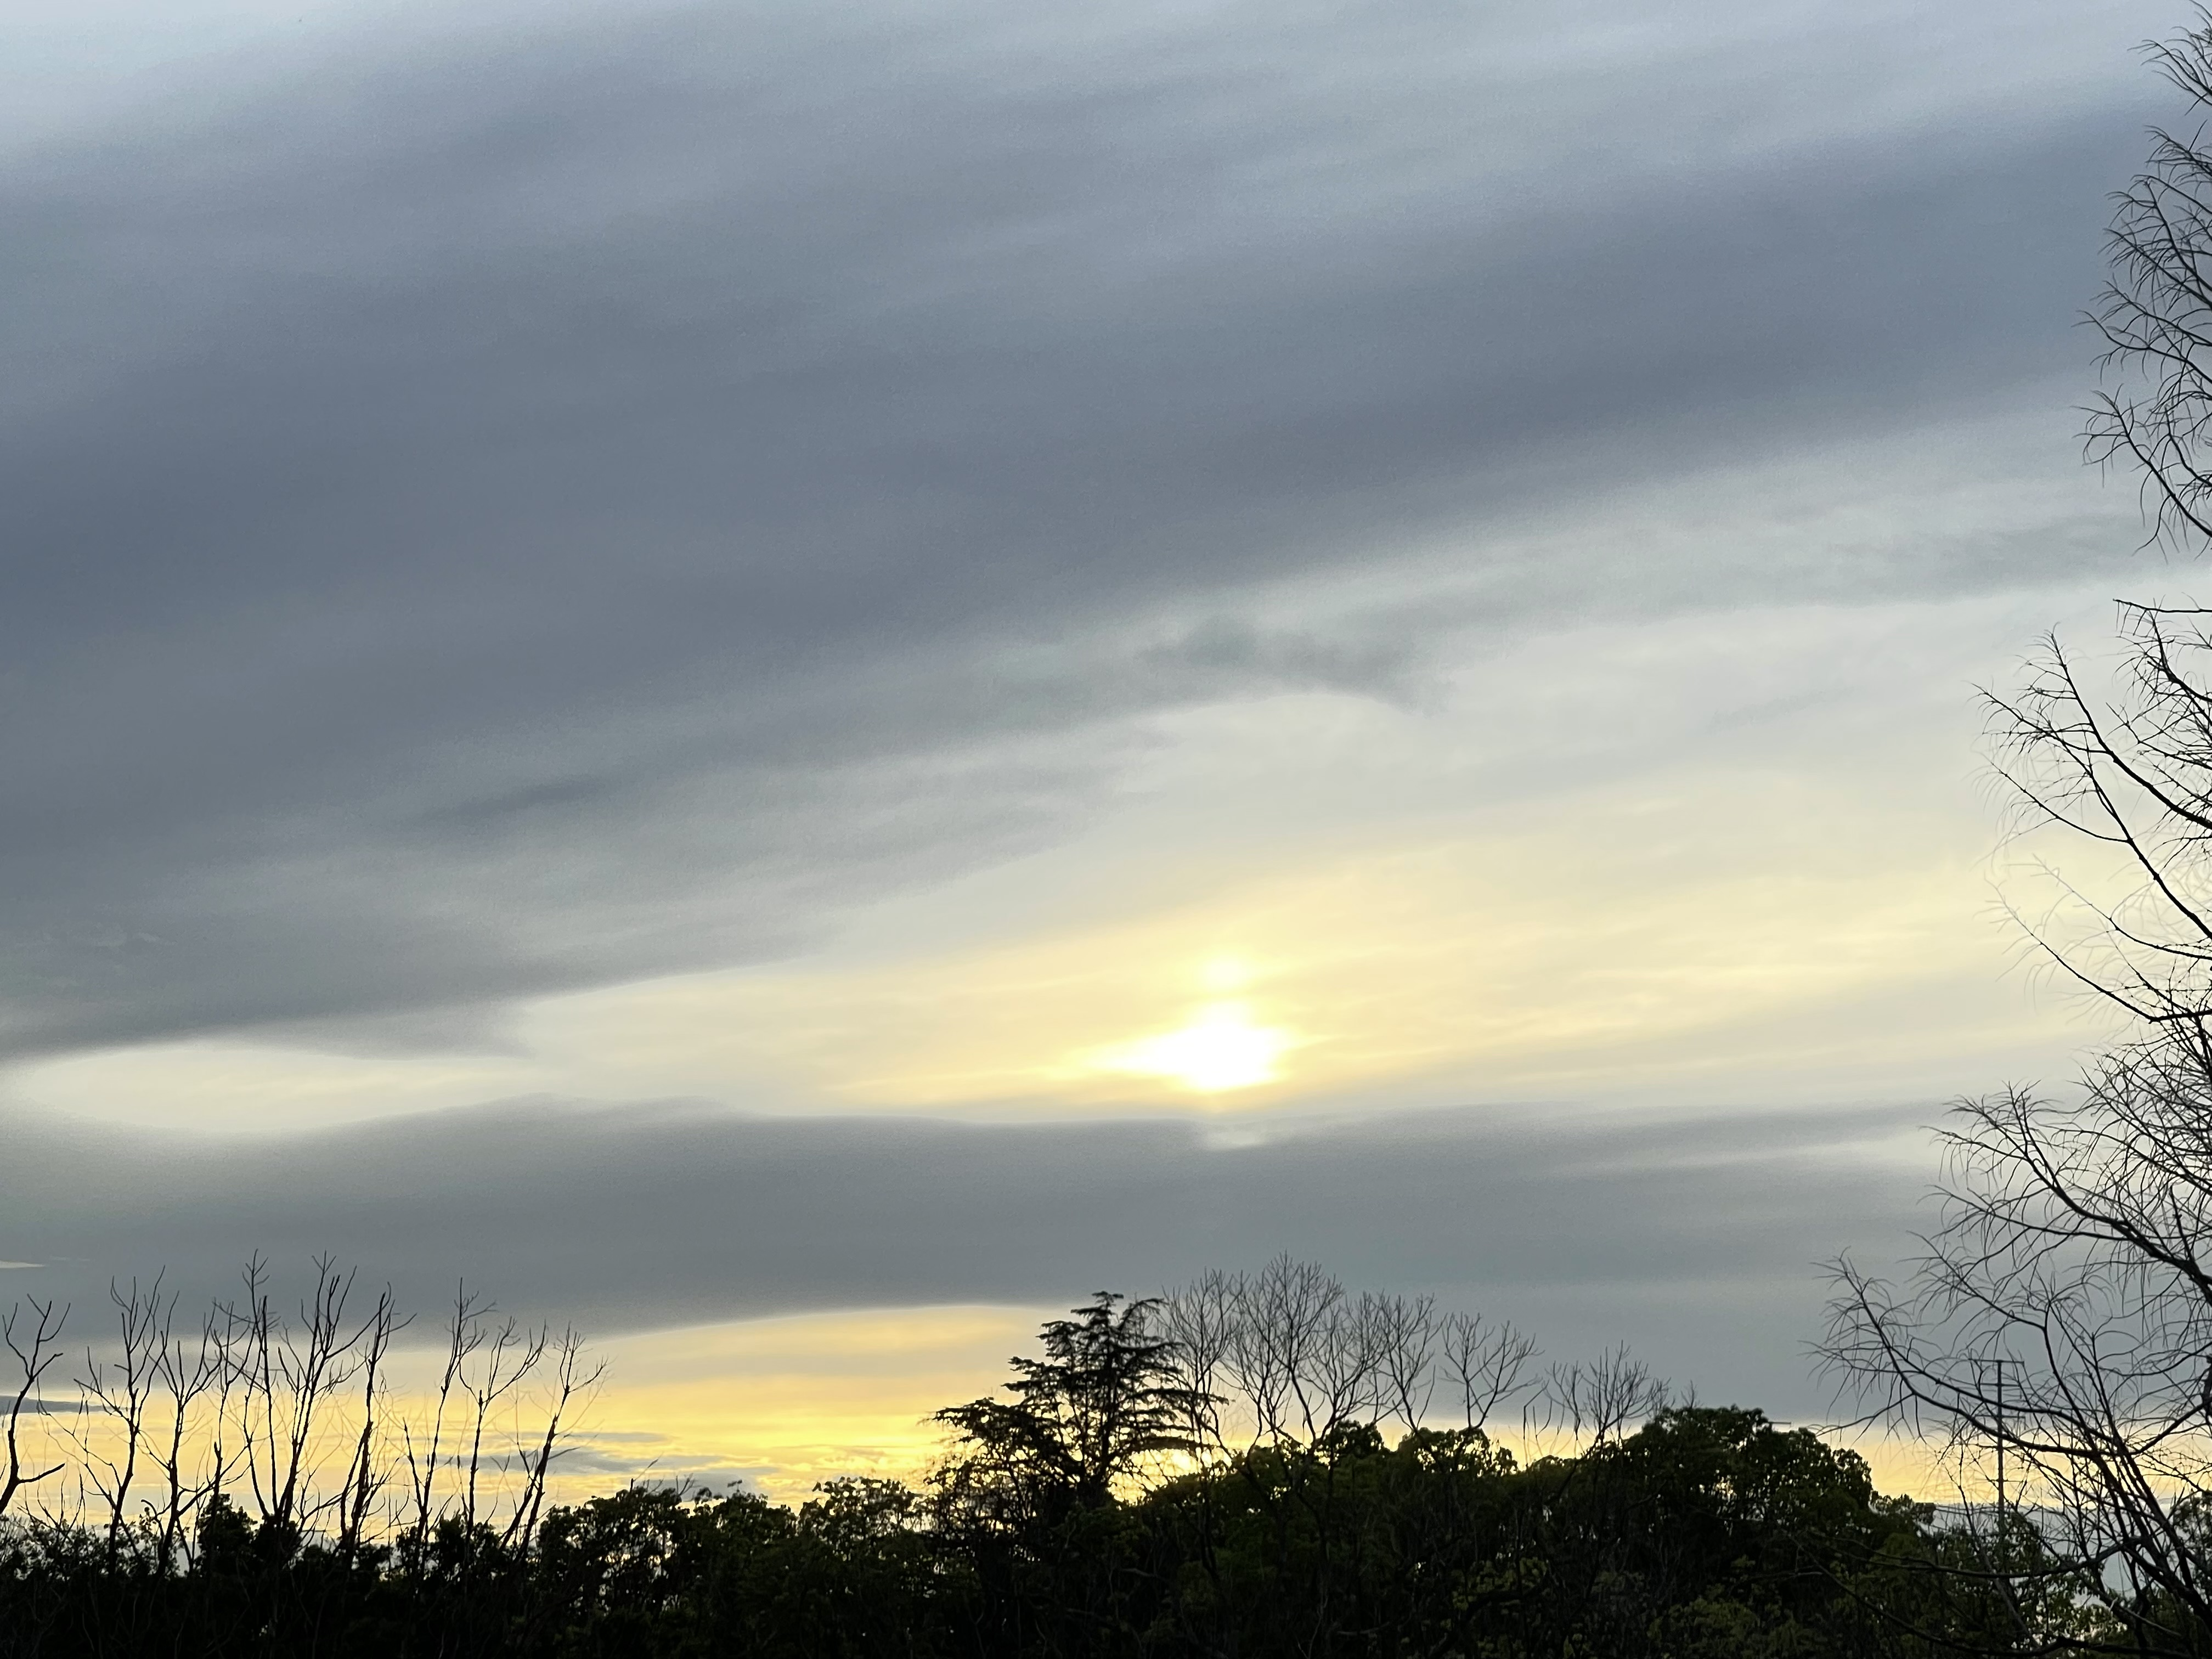Stratus: (24, 7, 2107, 791), (80, 1056, 2101, 1452)
